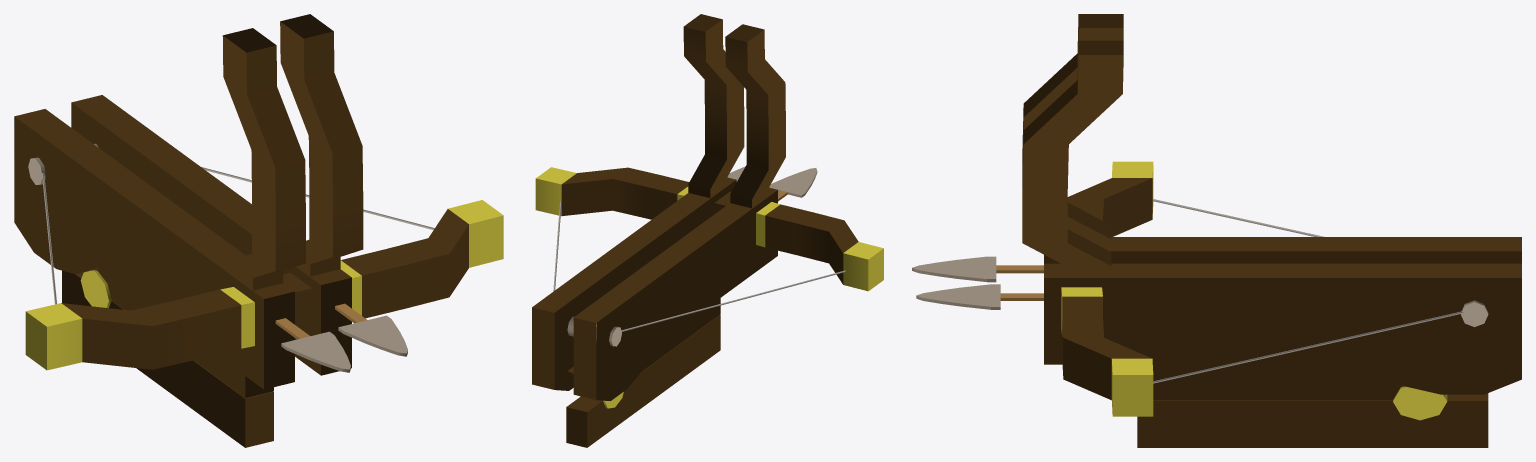
Rendered from darkness_tower_arrow2.FBX.
3 renders of one model, left to right at view 1: azimuth 30°, elevation 25°; view 2: azimuth 150°, elevation 25°; view 3: azimuth 270°, elevation 25°, orthographic. The views are drawn at different scales.
Visible parts, largest first — view 1: bow2; view 2: bow2; view 3: bow2.
Boxes of the visible parts, <box> form: bow2: <box>14,14,503,447</box>; bow2: <box>532,14,883,447</box>; bow2: <box>912,14,1521,447</box>.
Size of the model in its own units: 7.44 by 6.61 by 8.99.
